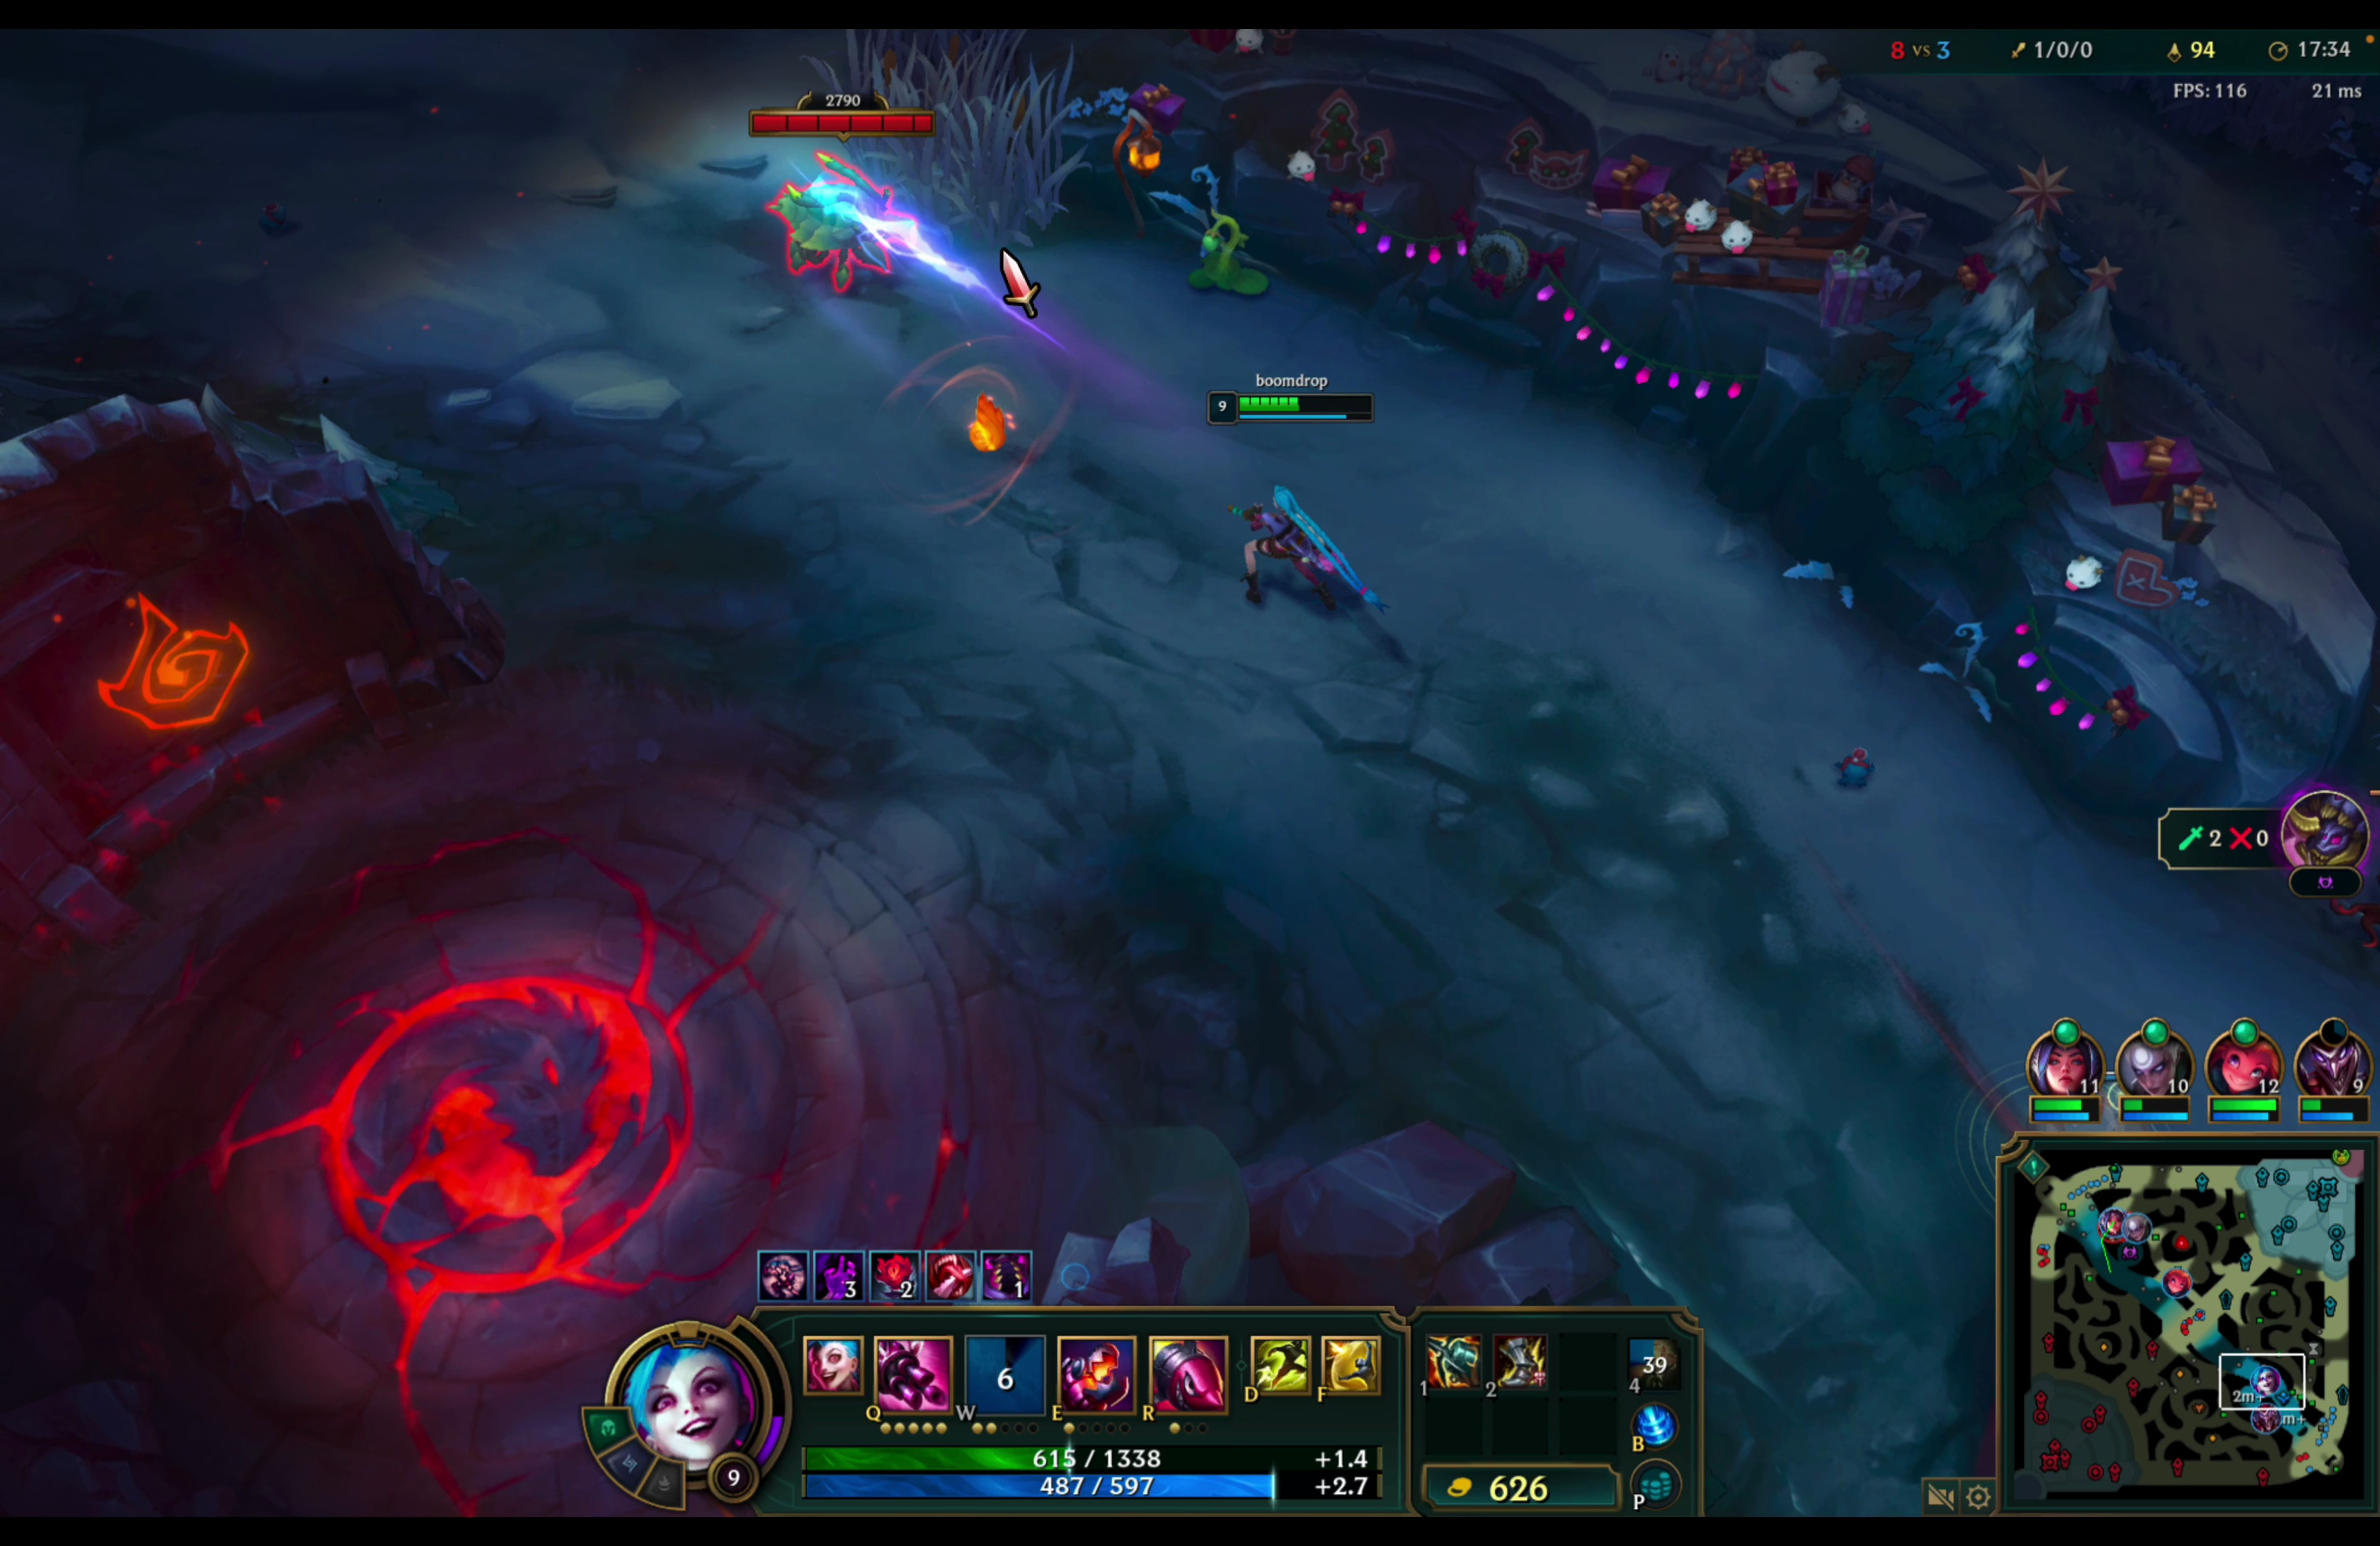LABEL_W_PROJECTILE: (788, 153, 1447, 691)
